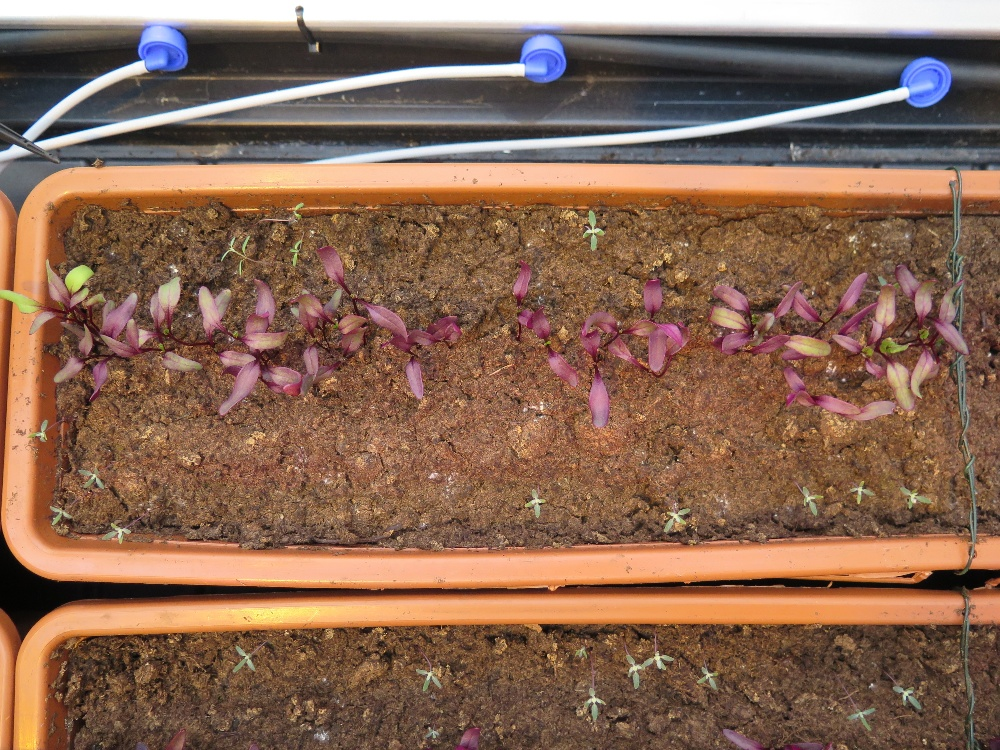crop: (273, 233, 437, 413), (473, 254, 632, 429), (764, 258, 893, 445), (823, 251, 964, 422), (21, 254, 146, 395), (114, 254, 239, 395), (202, 267, 318, 417), (693, 265, 800, 376), (589, 274, 705, 372), (718, 708, 841, 750), (446, 715, 505, 750), (159, 711, 207, 750)
weed: (218, 217, 271, 276), (837, 688, 882, 742), (650, 490, 700, 538), (625, 649, 675, 697), (889, 463, 932, 515), (91, 515, 146, 554), (264, 220, 302, 270), (512, 481, 555, 522), (841, 467, 880, 511), (82, 458, 118, 499), (789, 472, 823, 515), (39, 486, 77, 524), (571, 213, 605, 254), (21, 413, 55, 451), (900, 667, 925, 717), (693, 651, 727, 686), (412, 654, 443, 692), (573, 683, 602, 715), (230, 636, 259, 667)
